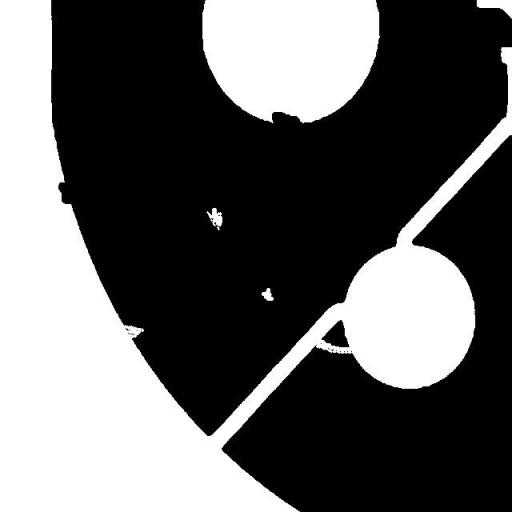mousebite: (114, 316, 151, 346)
open: (306, 331, 364, 361)
pin-hole: (198, 200, 230, 238), (254, 280, 280, 308)
spur: (264, 104, 311, 137), (50, 174, 82, 212)
